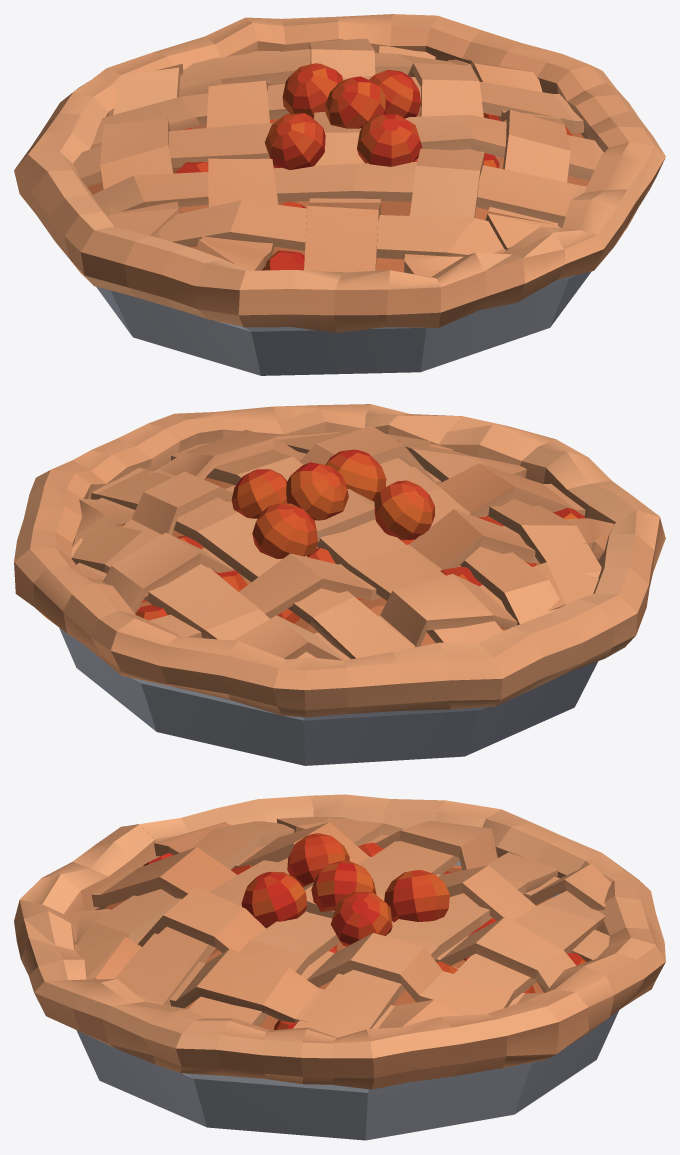
File: PASTEL ARANDANOS.fbx
3 views of the same model, one above another, from view 1: azimuth 30°, elevation 25°; view 2: azimuth 150°, elevation 25°; view 3: azimuth 270°, elevation 25° (orthographic). The views are drawn at different scales.
Parts seen in each view (by area): view 1: pastel; view 2: pastel; view 3: pastel.
Part boxes in pixels (x1=…): pastel: x1=14, y1=14, x2=665, y2=375; pastel: x1=14, y1=404, x2=665, y2=765; pastel: x1=14, y1=794, x2=665, y2=1140.
Bounding box in the file's own units: 82.9 × 82.8 × 26.92.
Materials: 1 (1 with a texture image).
